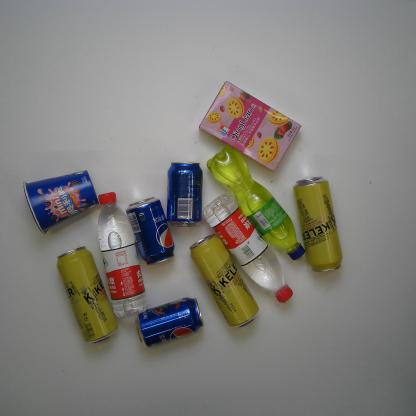Alcohol: (189, 233, 261, 329), (56, 244, 120, 344), (292, 174, 343, 274)
Dessert: (198, 79, 300, 173), (22, 166, 99, 238)
Drink: (207, 146, 306, 261), (204, 192, 293, 303), (98, 192, 149, 319), (134, 294, 204, 350), (126, 196, 176, 266), (165, 162, 204, 230)
